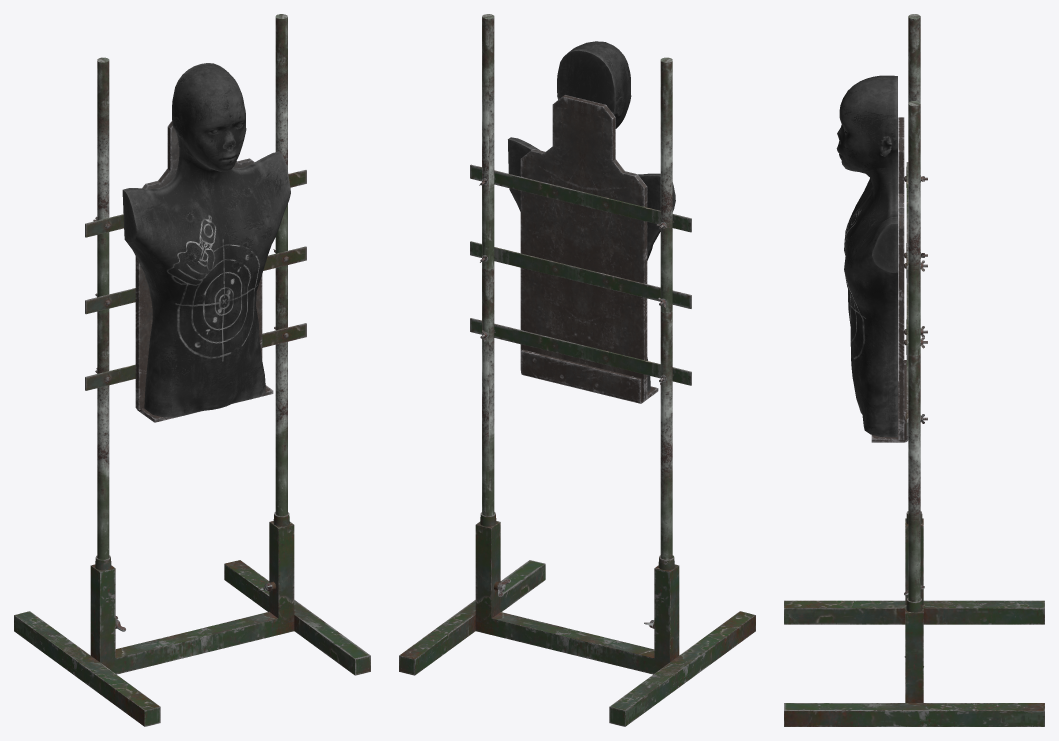
The model's file is dummy_target.glb.
The picture shows the model from 3 angles, left to right: view 1: azimuth 30°, elevation 25°; view 2: azimuth 150°, elevation 25°; view 3: azimuth 270°, elevation 25°; orthographic projection.
Visible parts, largest first — view 1: Object_2; view 2: Object_2; view 3: Object_2.
Part boxes in pixels (x1,y1,x2,y2): Object_2: (14,14,370,726); Object_2: (399,14,755,726); Object_2: (784,14,1044,726).
Bounding box in the file's own units: 69.72 × 181 × 69.78.
1 material, 1 textured.
